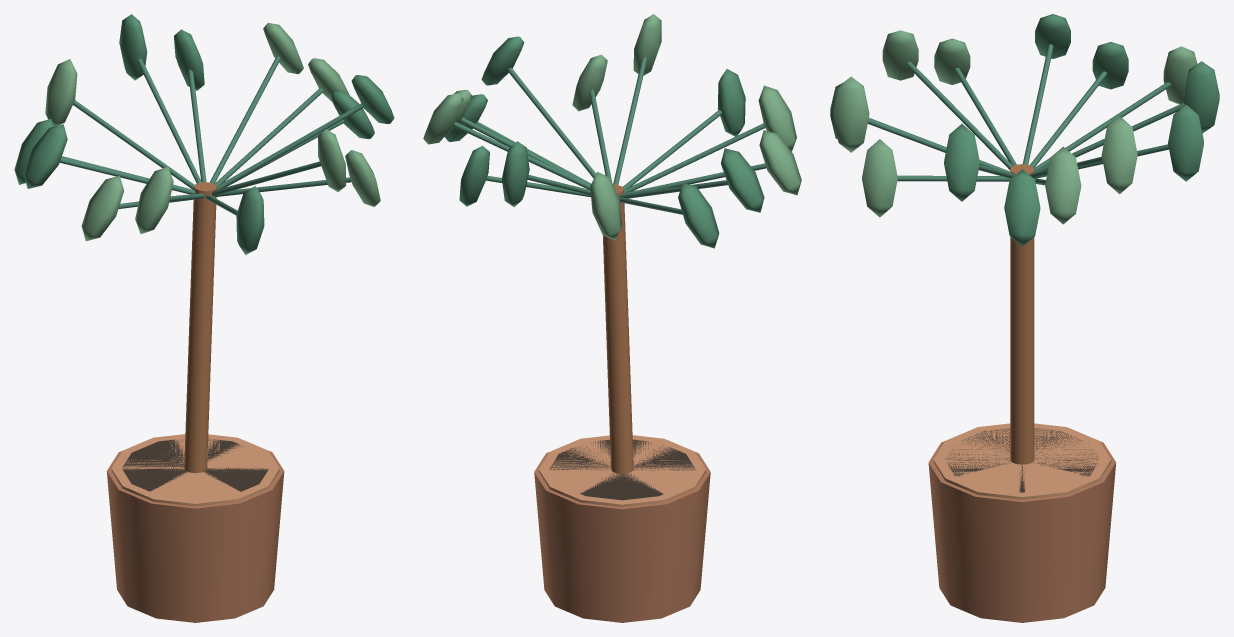
The model's file is officePalm.glb.
3 views of the same model, side by side, from view 1: azimuth 30°, elevation 25°; view 2: azimuth 150°, elevation 25°; view 3: azimuth 270°, elevation 25° (orthographic). The views are drawn at different scales.
Bounding box in the file's own units: 1.17 × 1.71 × 1.12.
